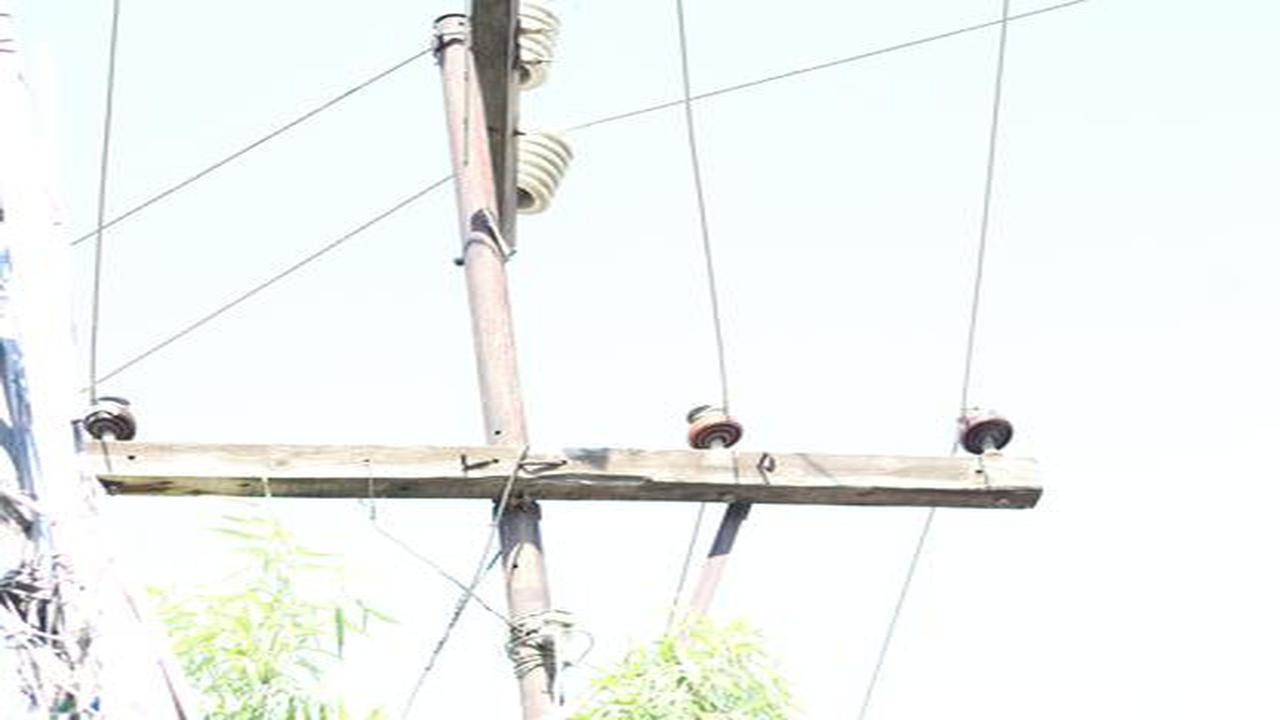defect_pin: (84, 389, 139, 443)
insulator_pin: (683, 398, 749, 451), (956, 401, 1017, 457)
